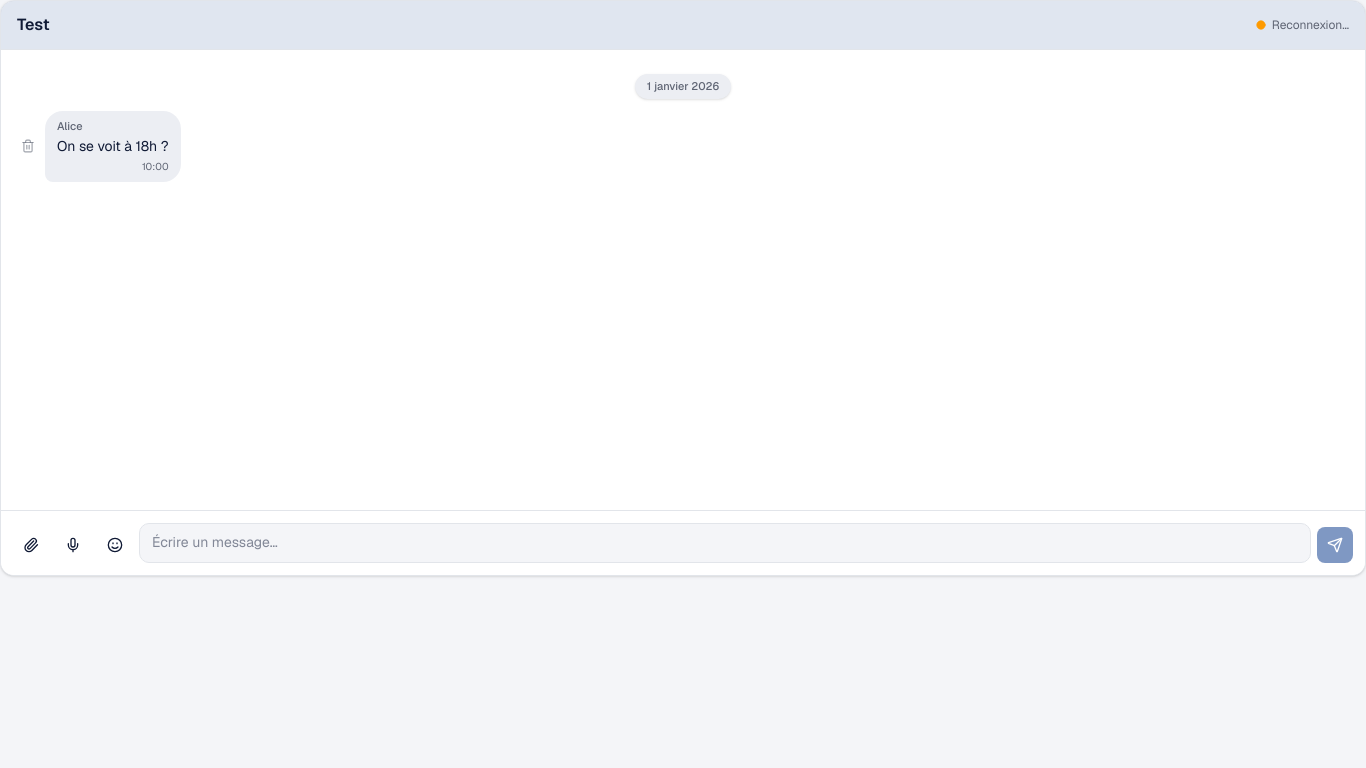
ChatConversation — suppression d'un message par son auteur (issue #10) › keeps the admin moderation action available on another member's message
Expected: the text "On se voit à 18h ?" is shown, [57,136,169,156]
Click the button named "Supprimer ce message (modération)". click: x=28, y=146
box: [17,136,39,158]
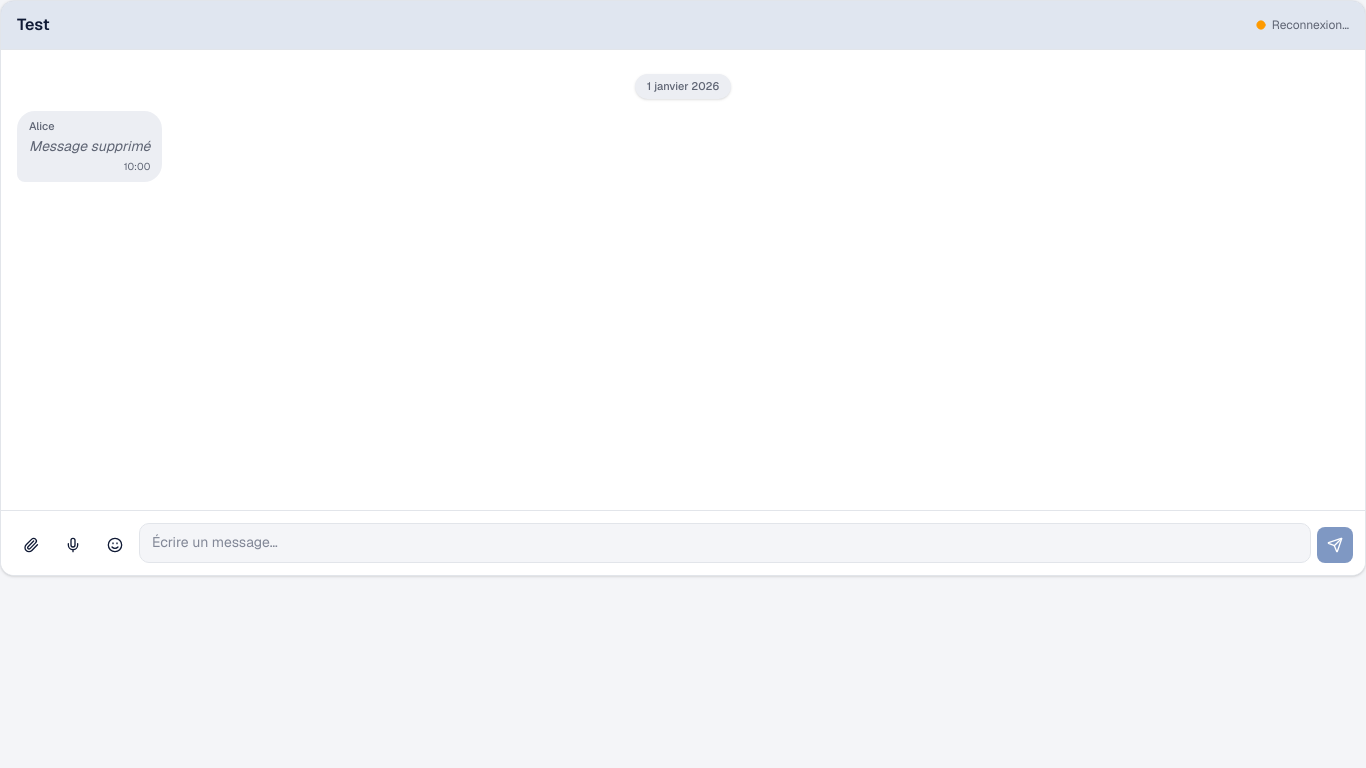
Now the text "Message supprimé" is shown, box [29,136,150,156]
